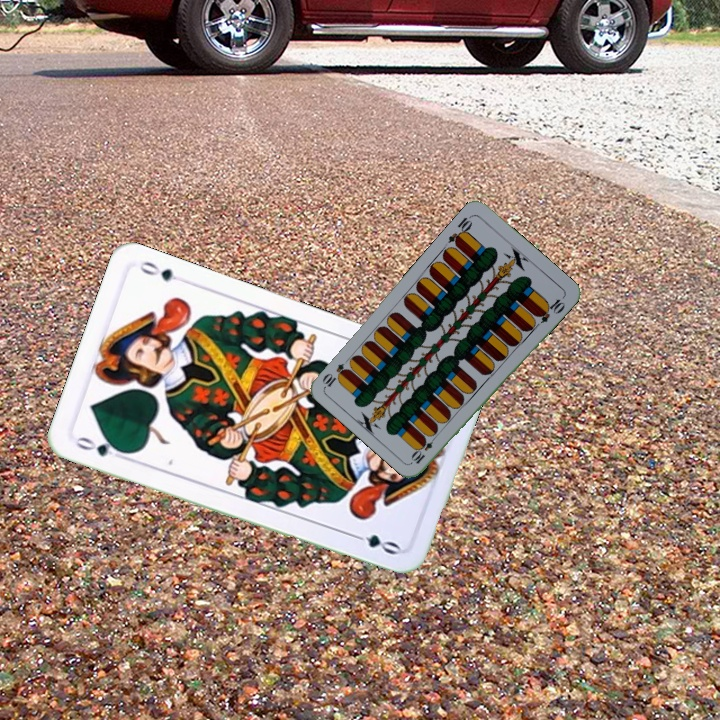E10: (444, 211, 475, 249), (408, 430, 440, 466)
GO: (72, 432, 129, 463)
